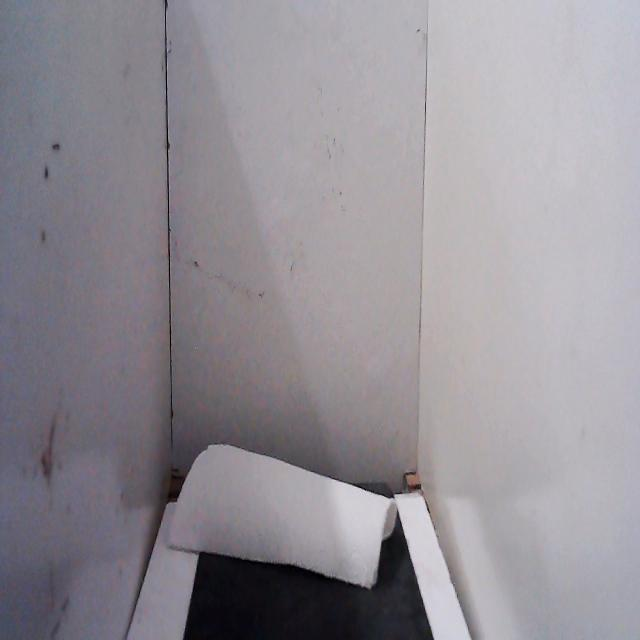papel: (162, 420, 408, 598)
